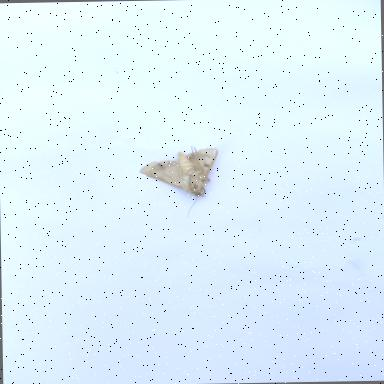abw: (138, 144, 221, 220)
